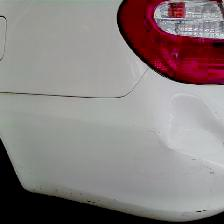bumper_dent: (145, 73, 223, 185)
